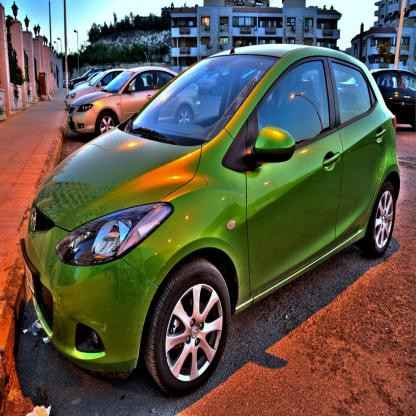Car: (20, 0, 416, 396), (67, 66, 203, 137), (337, 69, 415, 130), (65, 70, 125, 106), (74, 67, 102, 87)
